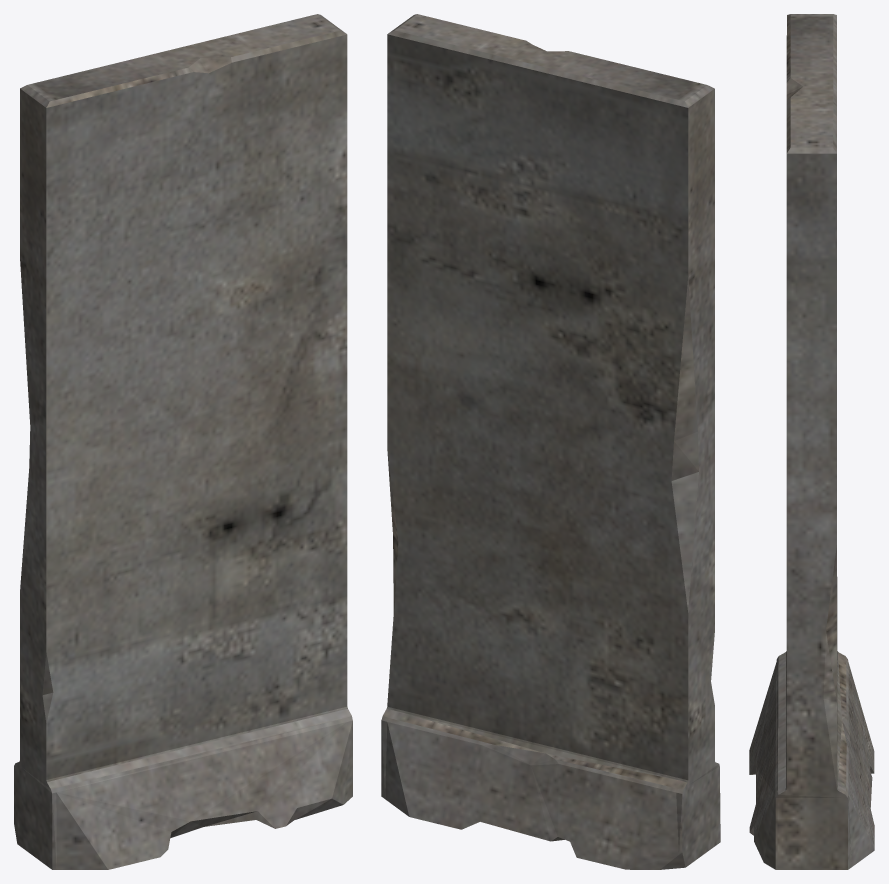
Rendered from Wall.obj.
3 renders of one model, left to right at view 1: azimuth 30°, elevation 25°; view 2: azimuth 150°, elevation 25°; view 3: azimuth 270°, elevation 25°, orthographic. The views are drawn at different scales.
Visible parts, largest first — view 1: DrawCall_0; view 2: DrawCall_0; view 3: DrawCall_0.
Part boxes in pixels (left/top/right/bottom): DrawCall_0: left=14, top=14, right=352, bottom=869; DrawCall_0: left=381, top=14, right=720, bottom=869; DrawCall_0: left=749, top=14, right=874, bottom=869.
Bounding box in the file's own units: 0.5575 × 1.34 × 0.2126.
Materials: 1 (1 with a texture image).
